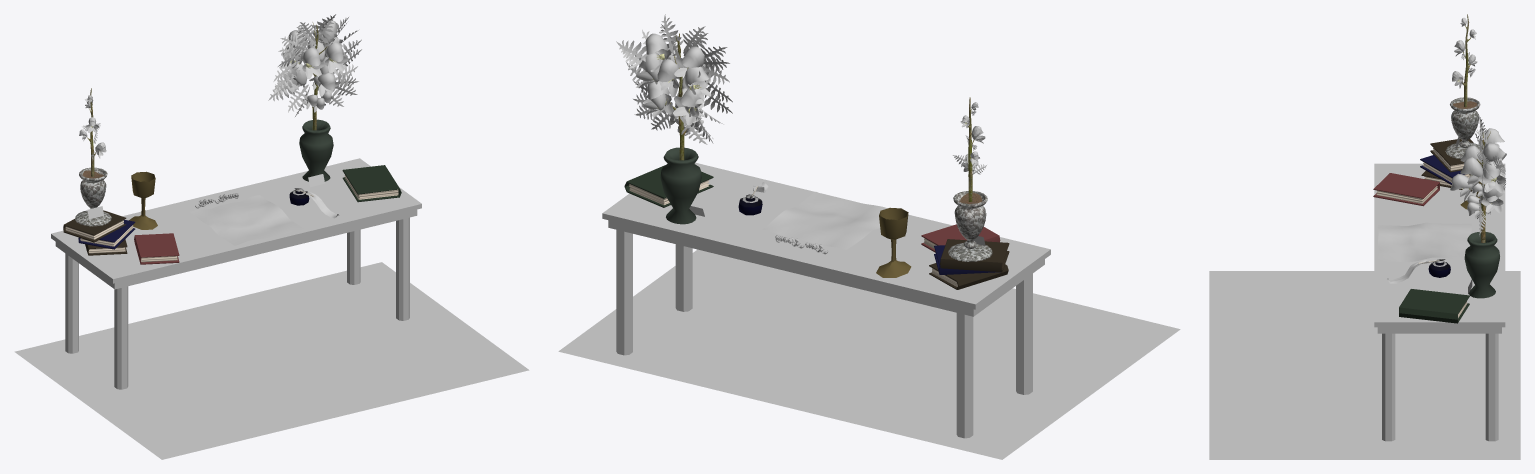
Rendered from koury_plant.fbx.
3 renders of one model, left to right at view 1: azimuth 30°, elevation 25°; view 2: azimuth 150°, elevation 25°; view 3: azimuth 270°, elevation 25°, orthographic. The views are drawn at different scales.
Parts seen in each view (by area): view 1: rug, desk, lion_flower, parchment, pot_2, pCube5, pCube2, polySurface9, pCube4, revolvedSurface1, polySurface1, cup (+3 smaller); view 2: rug, desk, lion_flower, parchment, pot_2, pCube4, pCube3, pCube5, revolvedSurface1, cup, polySurface5, pCube2 (+4 smaller); view 3: rug, desk, lion_flower, parchment, polySurface9, pot_2, pCube3, pCube2, polySurface1, revolvedSurface1, plant, polySurface5 (+2 smaller).
Part boxes in pixels (box(x1,y1,x2,y2)): rug: box(14, 262, 529, 459); desk: box(51, 158, 421, 289); lion_flower: box(268, 14, 361, 130); parchment: box(190, 195, 303, 245); pot_2: box(299, 119, 333, 181); pCube5: box(114, 286, 128, 389); pCube2: box(396, 217, 409, 320); polySurface9: box(342, 165, 401, 202); pCube4: box(65, 253, 78, 353); revolvedSurface1: box(75, 167, 111, 226); polySurface1: box(134, 233, 179, 264); cup: box(129, 171, 157, 229); rug: box(558, 249, 1180, 459); desk: box(602, 162, 1050, 316); lion_flower: box(616, 14, 732, 160); parchment: box(762, 191, 887, 249); pot_2: box(660, 147, 701, 224); pCube4: box(956, 313, 973, 438); pCube3: box(616, 229, 632, 355); pCube5: box(1016, 273, 1032, 394); revolvedSurface1: box(948, 191, 992, 261); cup: box(876, 207, 911, 277); polySurface5: box(940, 239, 1009, 272); pCube2: box(675, 244, 692, 311); rug: box(1209, 271, 1520, 459); desk: box(1374, 163, 1505, 333); lion_flower: box(1450, 114, 1506, 242); parchment: box(1377, 222, 1471, 262); polySurface9: box(1399, 289, 1469, 323); pot_2: box(1464, 231, 1499, 298); pCube3: box(1485, 333, 1498, 441); pCube2: box(1382, 333, 1395, 441); polySurface1: box(1373, 173, 1439, 206); revolvedSurface1: box(1445, 97, 1480, 158); plant: box(1452, 14, 1477, 107); polySurface5: box(1430, 139, 1473, 172).
Size of the model in its own units: 171 by 124 by 119.
